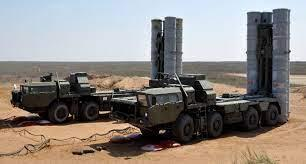rszo: (112, 80, 294, 140), (9, 72, 114, 122)
